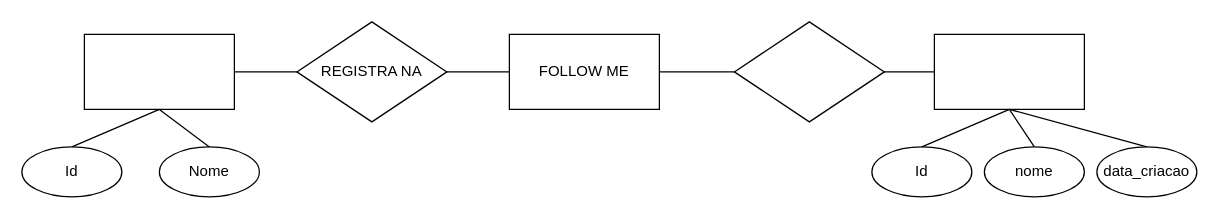
Image size: 1219x219. Some labels were removed from this diagram. The shapes that lost their labels are listed below. From the top down, each one's centre as x and y in pixels, then its label:
At point 158,71: "USUARIO".
At point 808,71: "RASTREIA".
At point 1008,71: "ATIVIDADES".
